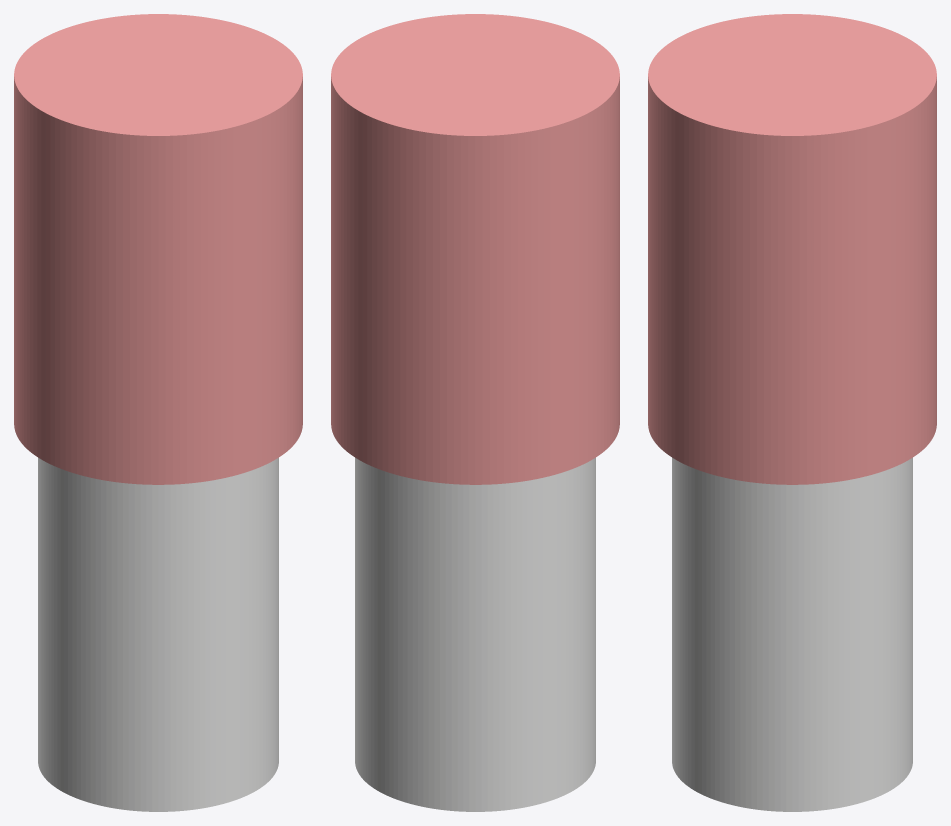
The model's file is Container_Lipstick__0006.glb.
The picture shows the model from 3 angles, left to right: view 1: azimuth 30°, elevation 25°; view 2: azimuth 150°, elevation 25°; view 3: azimuth 270°, elevation 25°; orthographic projection.
Visible parts, largest first — view 1: cap_applicator::cap, tube_base::tube_body; view 2: cap_applicator::cap, tube_base::tube_body; view 3: cap_applicator::cap, tube_base::tube_body.
Part boxes in pixels (x1,y1,x2,y2): cap_applicator::cap: (14, 14, 302, 484); tube_base::tube_body: (38, 457, 278, 811); cap_applicator::cap: (331, 14, 619, 484); tube_base::tube_body: (355, 457, 595, 811); cap_applicator::cap: (648, 14, 936, 484); tube_base::tube_body: (672, 457, 912, 811).
Size of the model in its own units: 0.023 by 0.0603 by 0.023.
